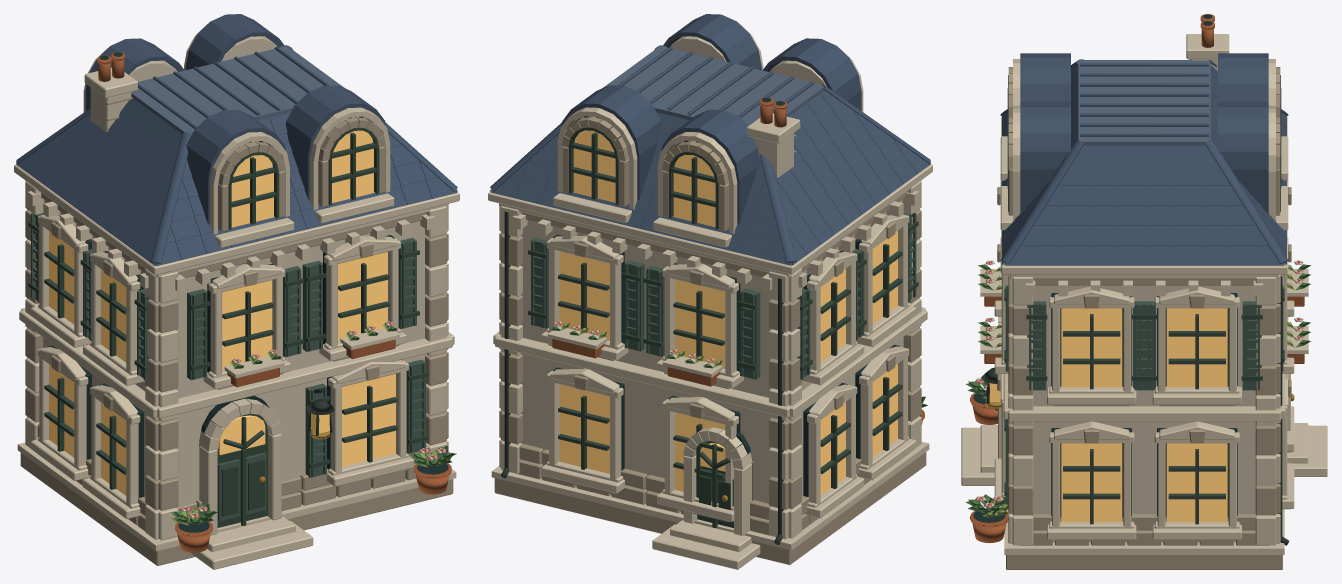
The picture shows the model from 3 angles, left to right: view 1: azimuth 30°, elevation 25°; view 2: azimuth 150°, elevation 25°; view 3: azimuth 270°, elevation 25°; orthographic projection.
Visible parts, largest first — view 1: classic_villa_2_geometry, classic_villa_2_geometry ceramic; view 2: classic_villa_2_geometry, classic_villa_2_geometry ceramic; view 3: classic_villa_2_geometry, classic_villa_2_geometry ceramic.
Part boxes in pixels (<box>): classic_villa_2_geometry: <box>14,23,459,569</box>; classic_villa_2_geometry ceramic: <box>16,14,457,265</box>; classic_villa_2_geometry: <box>488,23,932,569</box>; classic_villa_2_geometry ceramic: <box>490,14,930,265</box>; classic_villa_2_geometry: <box>961,14,1327,569</box>; classic_villa_2_geometry ceramic: <box>1000,53,1288,265</box>.
Size of the model in its own units: 0.9057 by 1.16 by 0.8948.
